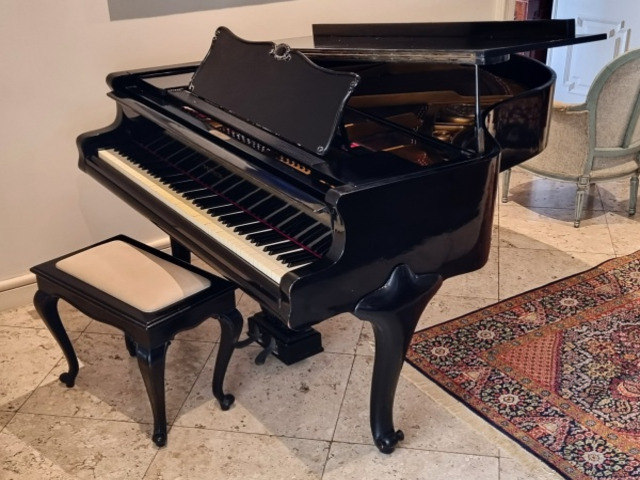Piano: (71, 0, 560, 467)
